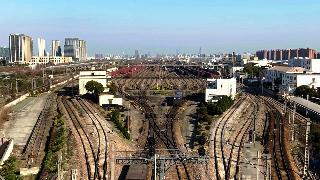train: (124, 158, 150, 180), (173, 90, 183, 106)
